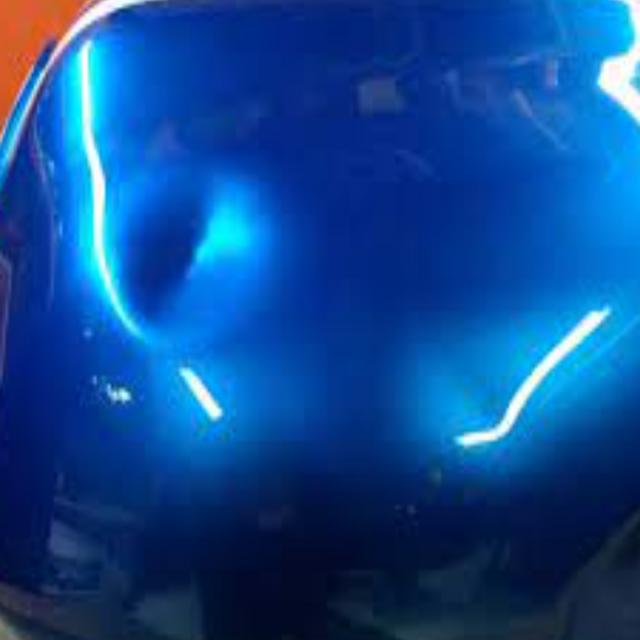dents: (79, 147, 268, 352)
